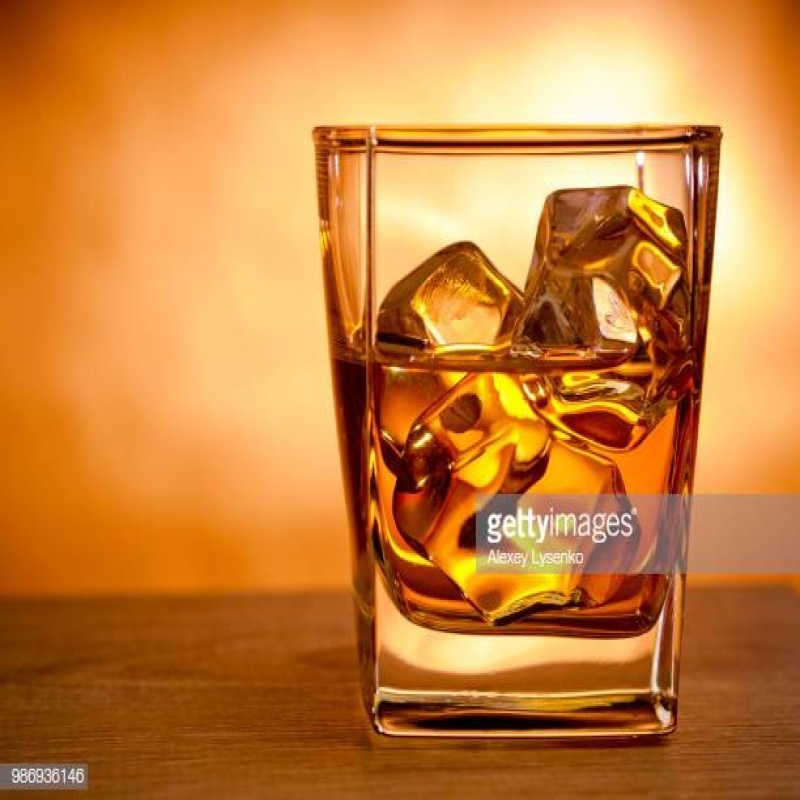whiskey: (304, 122, 697, 741)
